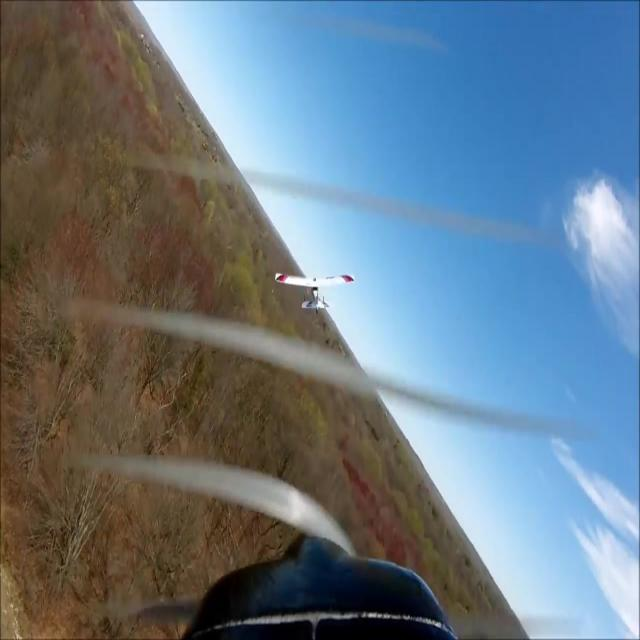iha: (306, 271, 323, 316)
